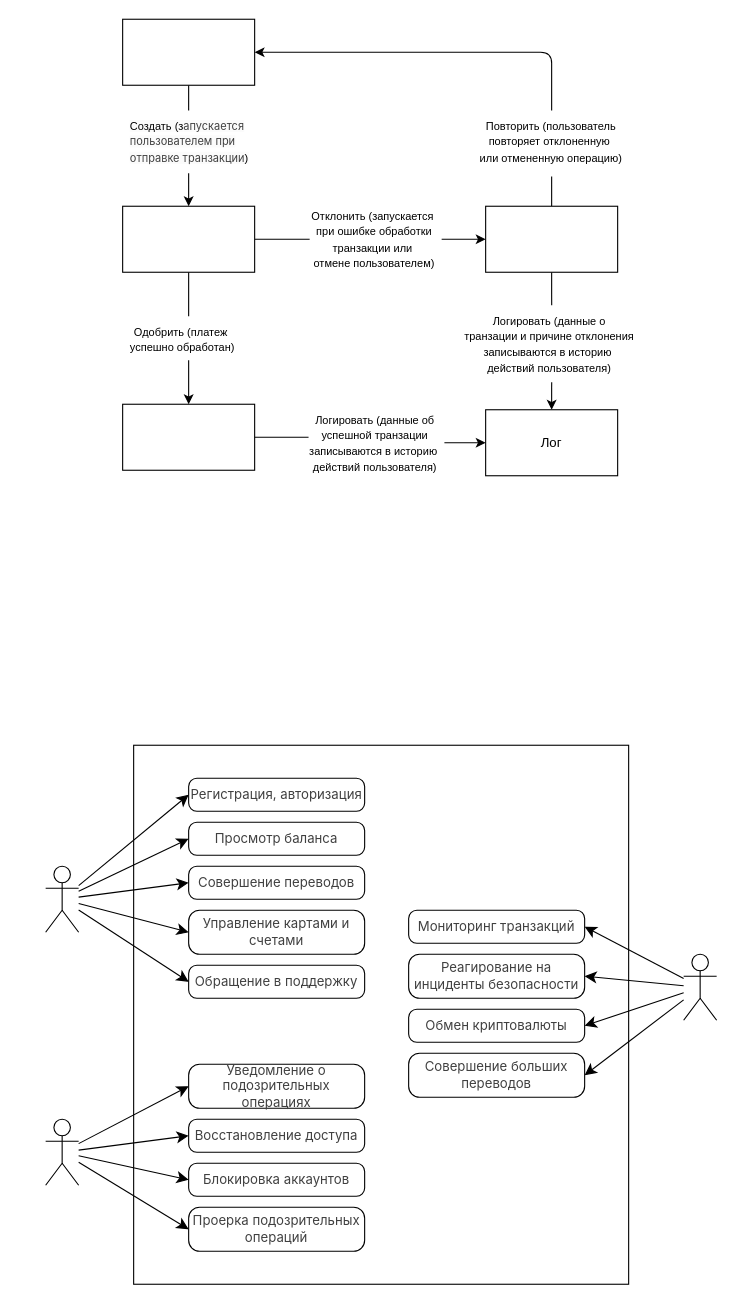
Image size: 736x1304. Some labels were removed from this diagram. Each missing label, with the centre of its shape:
"Банк" belongs at point (700, 986).
"Завершение" belongs at point (188, 436).
"Инициация" belongs at point (188, 51).
"Ожидание" belongs at point (188, 238).
"Отмена" belongs at point (551, 238).
"Пользователь" belongs at point (62, 898).
"Служба безопасности" belongs at point (62, 1151).
